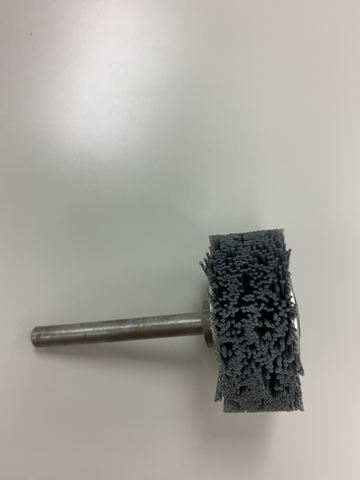Wheel Brush: (30, 228, 312, 421), (104, 226, 307, 425)
